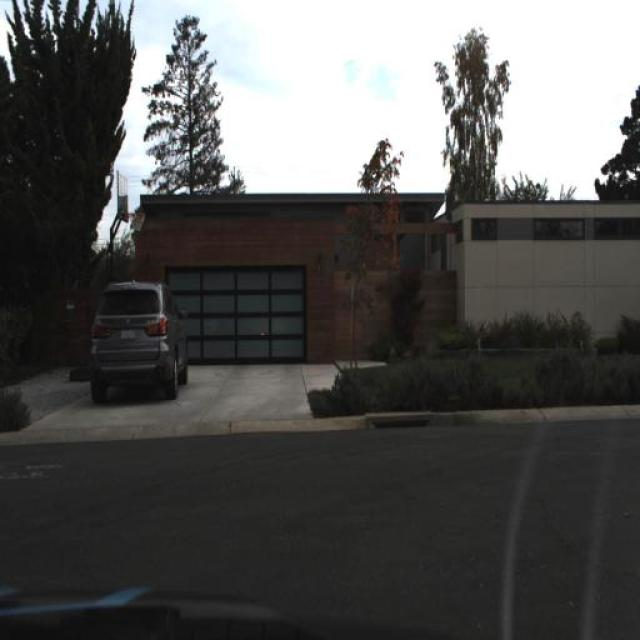car: (85, 278, 191, 398)
